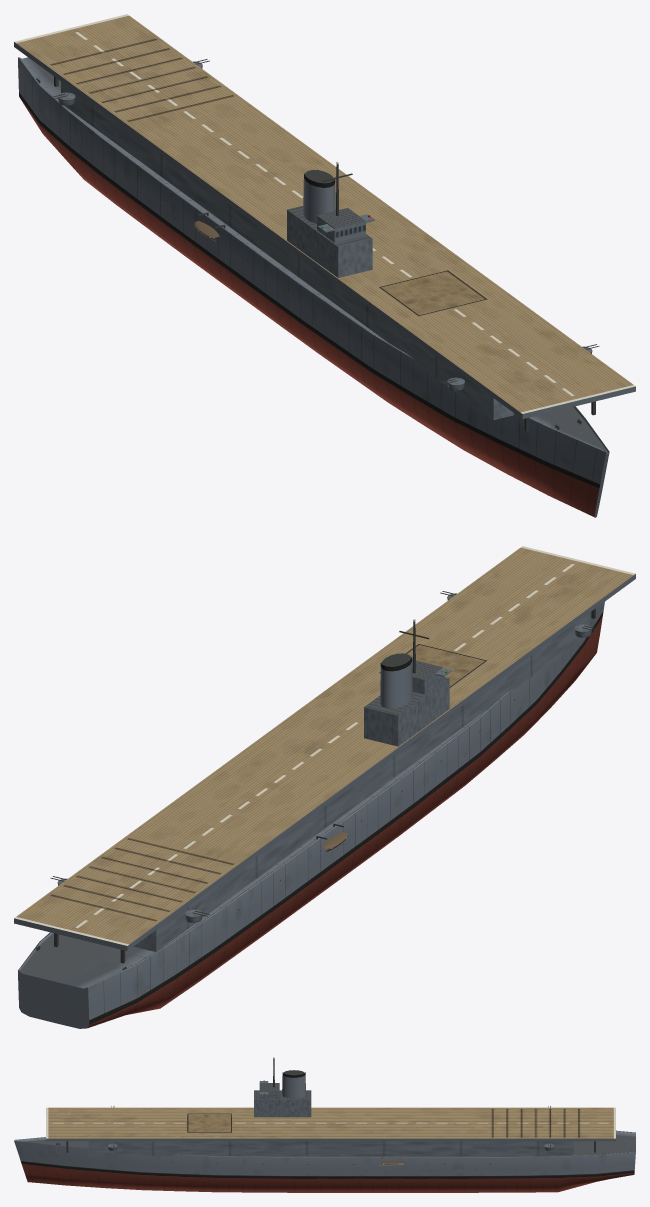
Rendered from carrier.glb.
3 renders of one model, top to bottom at view 1: azimuth 30°, elevation 25°; view 2: azimuth 150°, elevation 25°; view 3: azimuth 270°, elevation 25°, orthographic. The views are drawn at different scales.
Parts seen in each view (by area): view 1: hull, ascenseur; view 2: hull, ascenseur; view 3: hull, ascenseur.
Part boxes in pixels (x1,y1,x2,y2): hull: (14,14,635,517); ascenseur: (379,270,486,316); hull: (14,546,635,1028); ascenseur: (380,644,486,687); hull: (14,1057,635,1192); ascenseur: (187,1113,231,1132).
Size of the model in its own units: 31.8 by 39.62 by 195.
7 materials, 6 textured.
